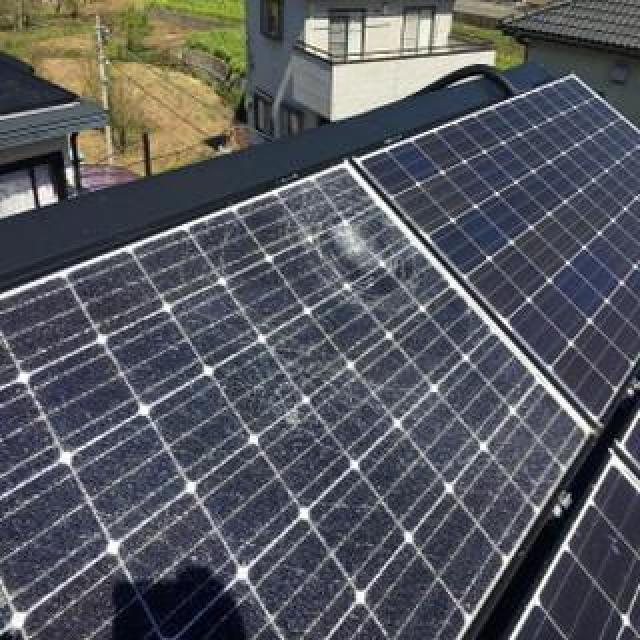cracked: (22, 164, 578, 634)
